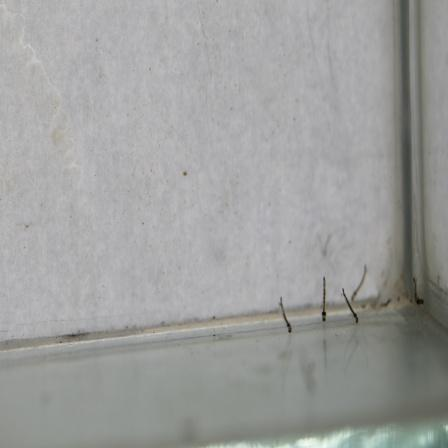Jentik-Nyamuk: (338, 260, 372, 326), (274, 293, 298, 338), (408, 269, 430, 312), (318, 273, 330, 326)
